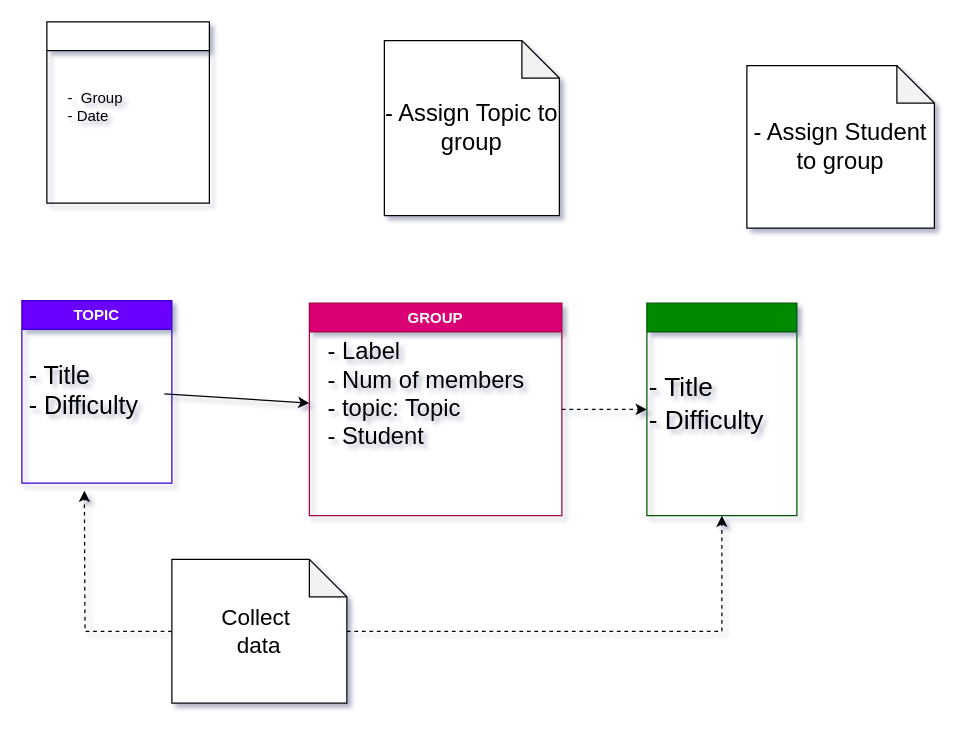
Image size: 964x733. Some labels were removed from this diagram. Each missing label, with the box of its shape:
GENERATION: (46, 21, 209, 203)
STUDENT: (646, 302, 797, 516)
